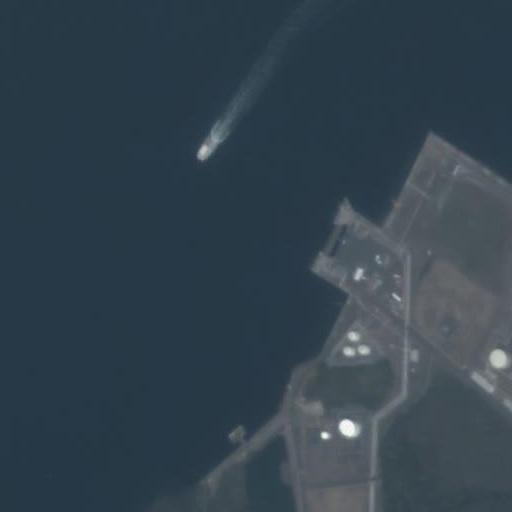person: (197, 144, 212, 160)
